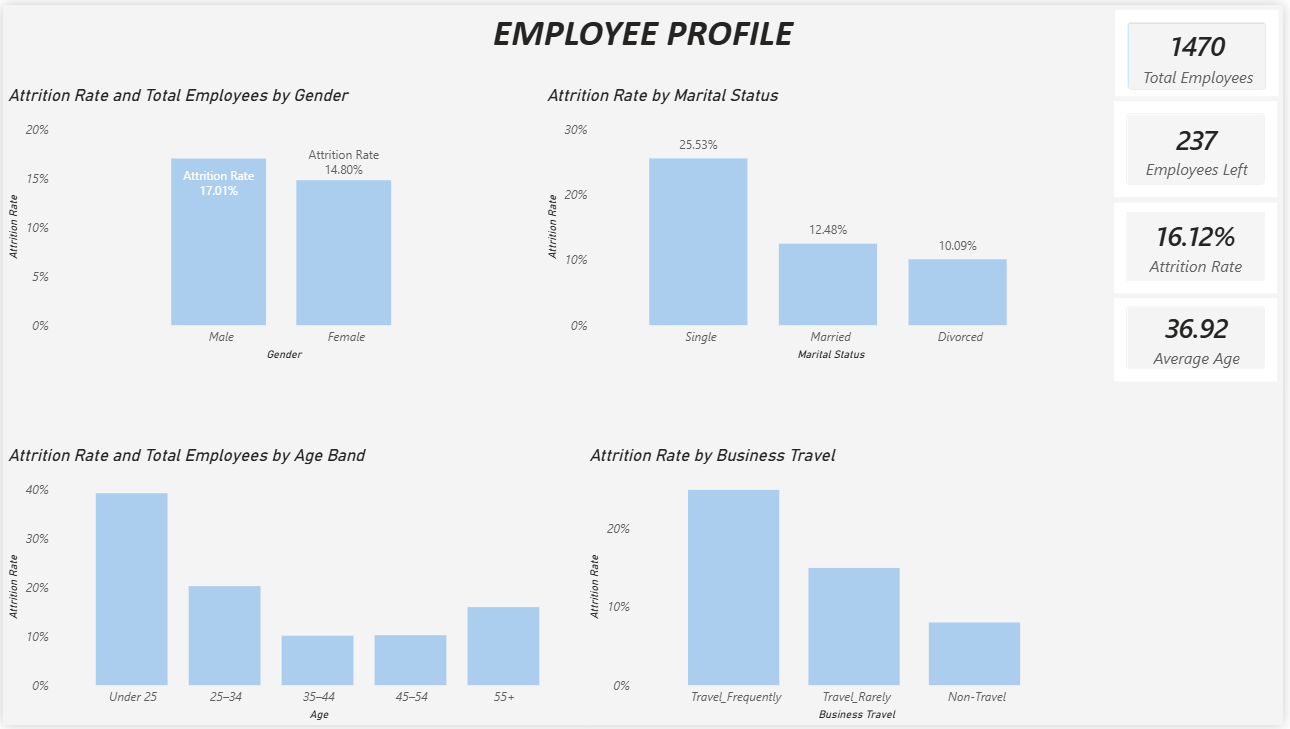

Layout of this report page (visuals, bound fields, positions):
{"tool":"powerbi","page":{"name":"Employee Profile","canvas":[1280,720],"ordinal":2},"visuals":[{"type":"clusteredColumnChart","fields":{"Y":["HR Analytics.Attrition Rate"],"Category":["HR Analytics.Gender"]},"box":[0,80,511.2,280],"z":0},{"type":"clusteredColumnChart","title":"Attrition Rate by Marital Status","fields":{"Y":["HR Analytics.Attrition Rate"],"Category":["HR Analytics.MaritalStatus"]},"box":[538.8,80,527.5,280],"z":1},{"type":"clusteredColumnChart","title":"Attrition Rate by Business Travel","fields":{"Y":["HR Analytics.Attrition Rate"],"Category":["HR Analytics.BusinessTravel"]},"box":[581.2,440,494.3,280],"z":2},{"type":"clusteredColumnChart","fields":{"Y":["HR Analytics.Attrition Rate"],"Category":["HR Analytics.Age Band"]},"box":[0,440,581.2,280],"z":3},{"type":"cardVisual","fields":{"Data":["HR Analytics.Total Employees"]},"box":[1107,0,173,102],"z":4},{"type":"cardVisual","fields":{"Data":["HR Analytics.Average Age"]},"box":[1106.7,284,173.3,98.3],"z":5},{"type":"cardVisual","fields":{"Data":["HR Analytics.Attrition Rate"]},"box":[1106.7,190,173.3,103.3],"z":6},{"type":"cardVisual","fields":{"Data":["HR Analytics.Employees Left"]},"box":[1106.7,91.1,173.3,106.7],"z":7},{"type":"textbox","box":[296.2,0,687.5,63.8],"z":8}]}

Visuals, with their boxes in screenshot pixels (x1, y1, x2, y2), scaled from the page's 1280x720 canvas onto the 1290x729 screenshot:
clusteredColumnChart - HR Analytics.Attrition Rate x HR Analytics.Gender: locate(0, 81, 515, 364)
"Attrition Rate by Marital Status" clusteredColumnChart: locate(543, 81, 1075, 364)
"Attrition Rate by Business Travel" clusteredColumnChart: locate(586, 446, 1084, 728)
clusteredColumnChart - HR Analytics.Attrition Rate x HR Analytics.Age Band: locate(0, 446, 586, 728)
cardVisual - HR Analytics.Total Employees: locate(1116, 0, 1289, 103)
cardVisual - HR Analytics.Average Age: locate(1115, 288, 1289, 387)
cardVisual - HR Analytics.Attrition Rate: locate(1115, 192, 1289, 297)
cardVisual - HR Analytics.Employees Left: locate(1115, 92, 1289, 200)
textbox: locate(299, 0, 991, 65)
